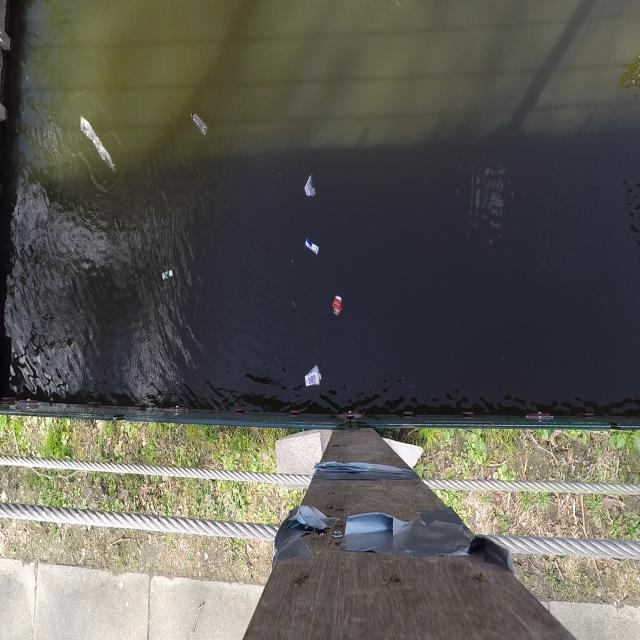Bouteille plastique: (190, 110, 211, 143)
Non plastique: (303, 362, 325, 398), (330, 291, 346, 319), (303, 236, 320, 257)
Sac plastique: (78, 110, 118, 177)
